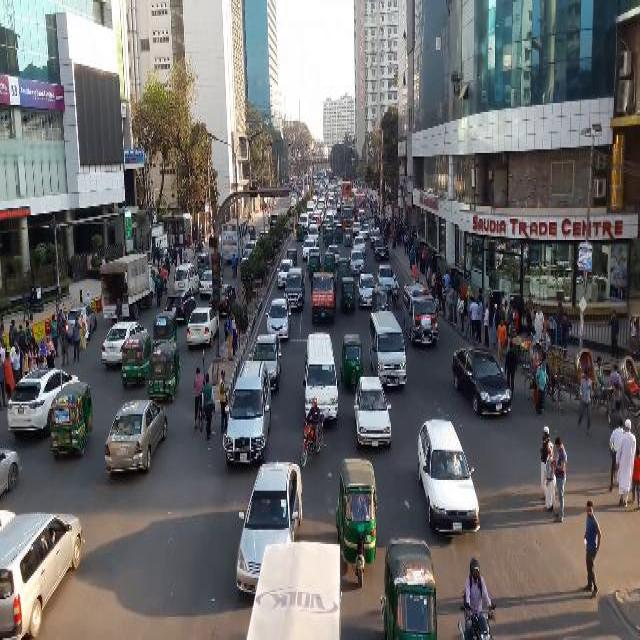10: (458, 556, 494, 636), (300, 397, 324, 468), (390, 272, 400, 308), (230, 252, 238, 274)
11: (244, 540, 342, 636), (306, 199, 314, 217), (312, 180, 320, 193), (318, 195, 326, 202)
13: (568, 348, 612, 424), (523, 338, 567, 412)
15: (64, 302, 96, 338), (276, 257, 294, 287), (372, 234, 388, 260), (244, 240, 258, 254)
17: (380, 536, 438, 637), (335, 457, 377, 588), (48, 381, 92, 458), (148, 341, 180, 402), (120, 332, 150, 386), (339, 334, 363, 396), (151, 309, 177, 345), (340, 275, 356, 312), (372, 284, 388, 310), (308, 251, 320, 279), (337, 256, 349, 284), (196, 250, 208, 273), (324, 251, 334, 272), (286, 247, 296, 265), (294, 222, 304, 240), (334, 221, 342, 241), (344, 226, 352, 243), (324, 226, 332, 243), (322, 223, 330, 239), (248, 224, 256, 238)
19: (222, 359, 272, 466), (303, 330, 339, 420), (368, 310, 408, 388), (284, 265, 304, 311), (306, 223, 318, 243), (312, 212, 321, 230), (299, 212, 309, 228), (324, 207, 334, 223)
5: (2, 511, 84, 634), (234, 460, 304, 592), (415, 417, 483, 532), (101, 398, 169, 473), (7, 365, 79, 435), (452, 343, 512, 418), (354, 373, 392, 448), (100, 319, 146, 360), (248, 334, 280, 388), (184, 303, 220, 348), (263, 296, 291, 337), (165, 289, 195, 323), (1, 444, 20, 490), (208, 282, 234, 314), (357, 269, 377, 307), (198, 268, 222, 290), (378, 263, 394, 292), (348, 248, 364, 275), (302, 236, 316, 258), (325, 243, 339, 265), (352, 234, 366, 253), (370, 228, 380, 244), (358, 223, 370, 236), (352, 221, 361, 234), (270, 212, 278, 226), (329, 203, 337, 213), (289, 196, 295, 202)
9: (172, 262, 200, 294), (356, 207, 366, 220)
Ambulance: (403, 282, 439, 344)
Bus: (98, 251, 154, 318)
Motorcycle: (194, 399, 202, 433)
Truck: (221, 216, 249, 257), (352, 187, 366, 215), (342, 200, 354, 227), (341, 180, 352, 198), (326, 182, 334, 195)
